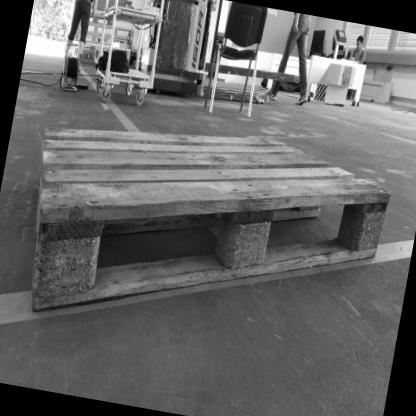BoxFace: (28, 127, 394, 316)
